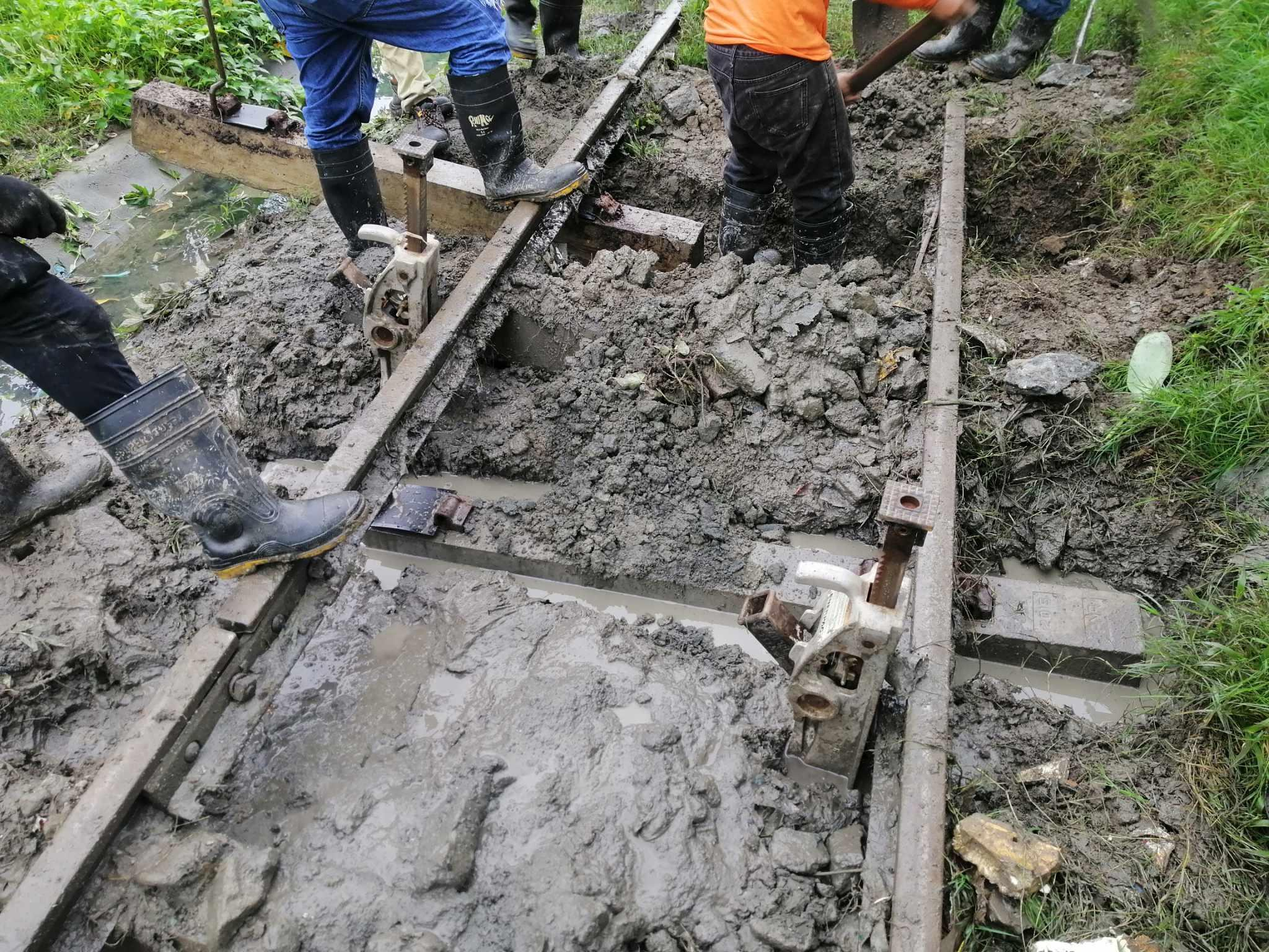railway-gap: (173, 572, 283, 675)
